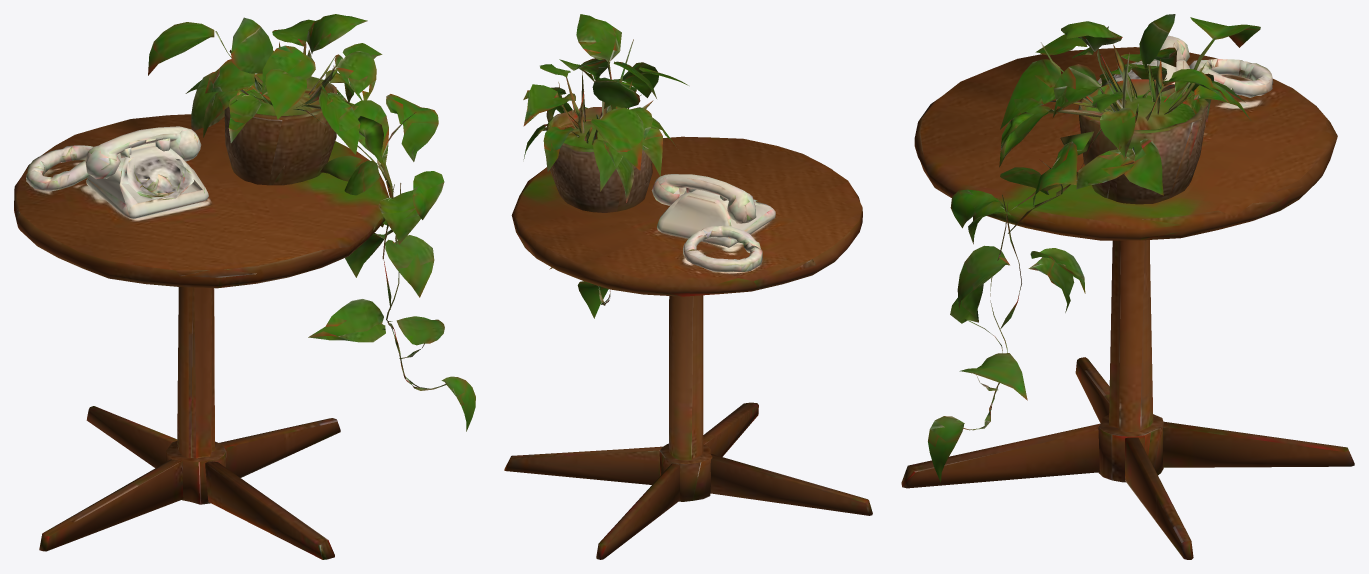
The model's file is table_small__2.glb.
The picture shows the model from 3 angles, left to right: view 1: azimuth 30°, elevation 25°; view 2: azimuth 150°, elevation 25°; view 3: azimuth 270°, elevation 25°; orthographic projection. The views are drawn at different scales.
Parts seen in each view (by area): view 1: Mesh_0.057; view 2: Mesh_0.057; view 3: Mesh_0.057.
Part boxes in pixels (bbox=[...]): Mesh_0.057: bbox=[14, 14, 475, 559]; Mesh_0.057: bbox=[504, 14, 872, 559]; Mesh_0.057: bbox=[901, 14, 1354, 559].
Bounding box in the file's own units: 0.7251 × 0.8368 × 0.6688.
1 material, 1 textured.
